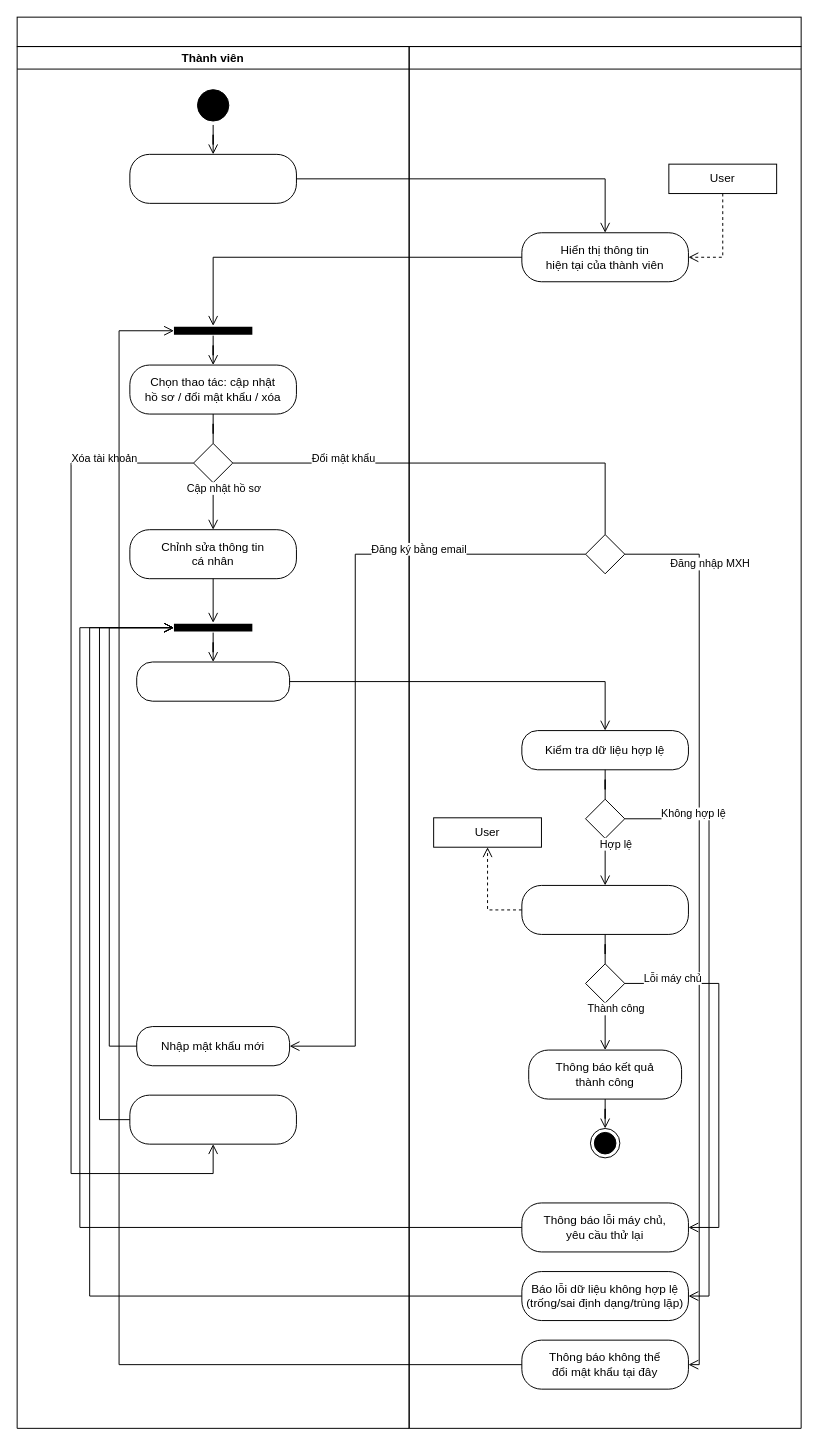
The diagram is 818 pixels wide and 1446 high, and some of its shapes have lost their labels. The box of each missing label's shape, as (x1, y1, x2, y2) in pixels:
Hệ thống: (408, 46, 801, 1428)
Nhập username xác nhận xóa tài khoản: (129, 1094, 296, 1144)
QUẢN LÝ HỒ SƠ CÁ NHÂN: (16, 16, 801, 47)
Vào màn hình "Tài khoản", chọn tab Hồ sơ/Cài đặt: (129, 153, 296, 203)
Xác nhận thao tác: (136, 661, 290, 701)
Xử lý và lưu thay đổi tương ứng: (521, 884, 688, 934)
